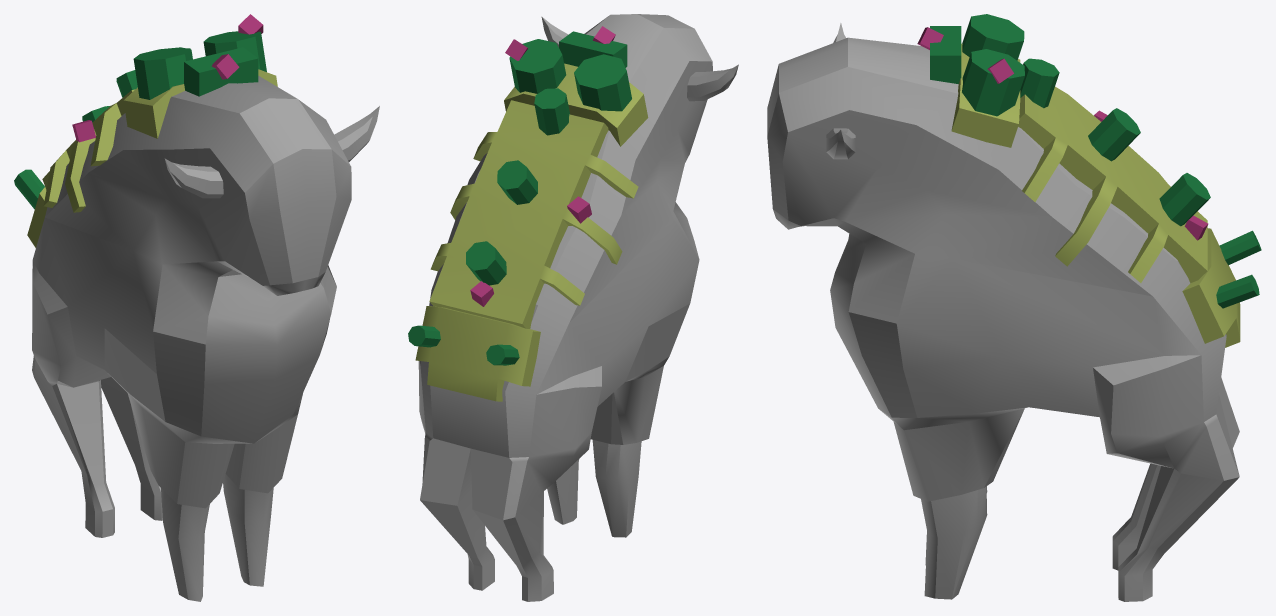
Rendered from nomad_asset_buffulo_v08.fbx.
3 views of the same model, side by side, from view 1: azimuth 30°, elevation 25°; view 2: azimuth 150°, elevation 25°; view 3: azimuth 270°, elevation 25° (orthographic). The views are drawn at different scales.
Visible parts, largest first — view 1: buff_horn_r_l_lp1; view 2: buff_horn_r_l_lp1; view 3: buff_horn_r_l_lp1.
Part boxes in pixels (x1=…): buff_horn_r_l_lp1: x1=14, y1=14, x2=379, y2=601; buff_horn_r_l_lp1: x1=408, y1=14, x2=738, y2=601; buff_horn_r_l_lp1: x1=767, y1=14, x2=1261, y2=601.
Bounding box in the file's own units: 7.48 × 17.97 × 14.54.
